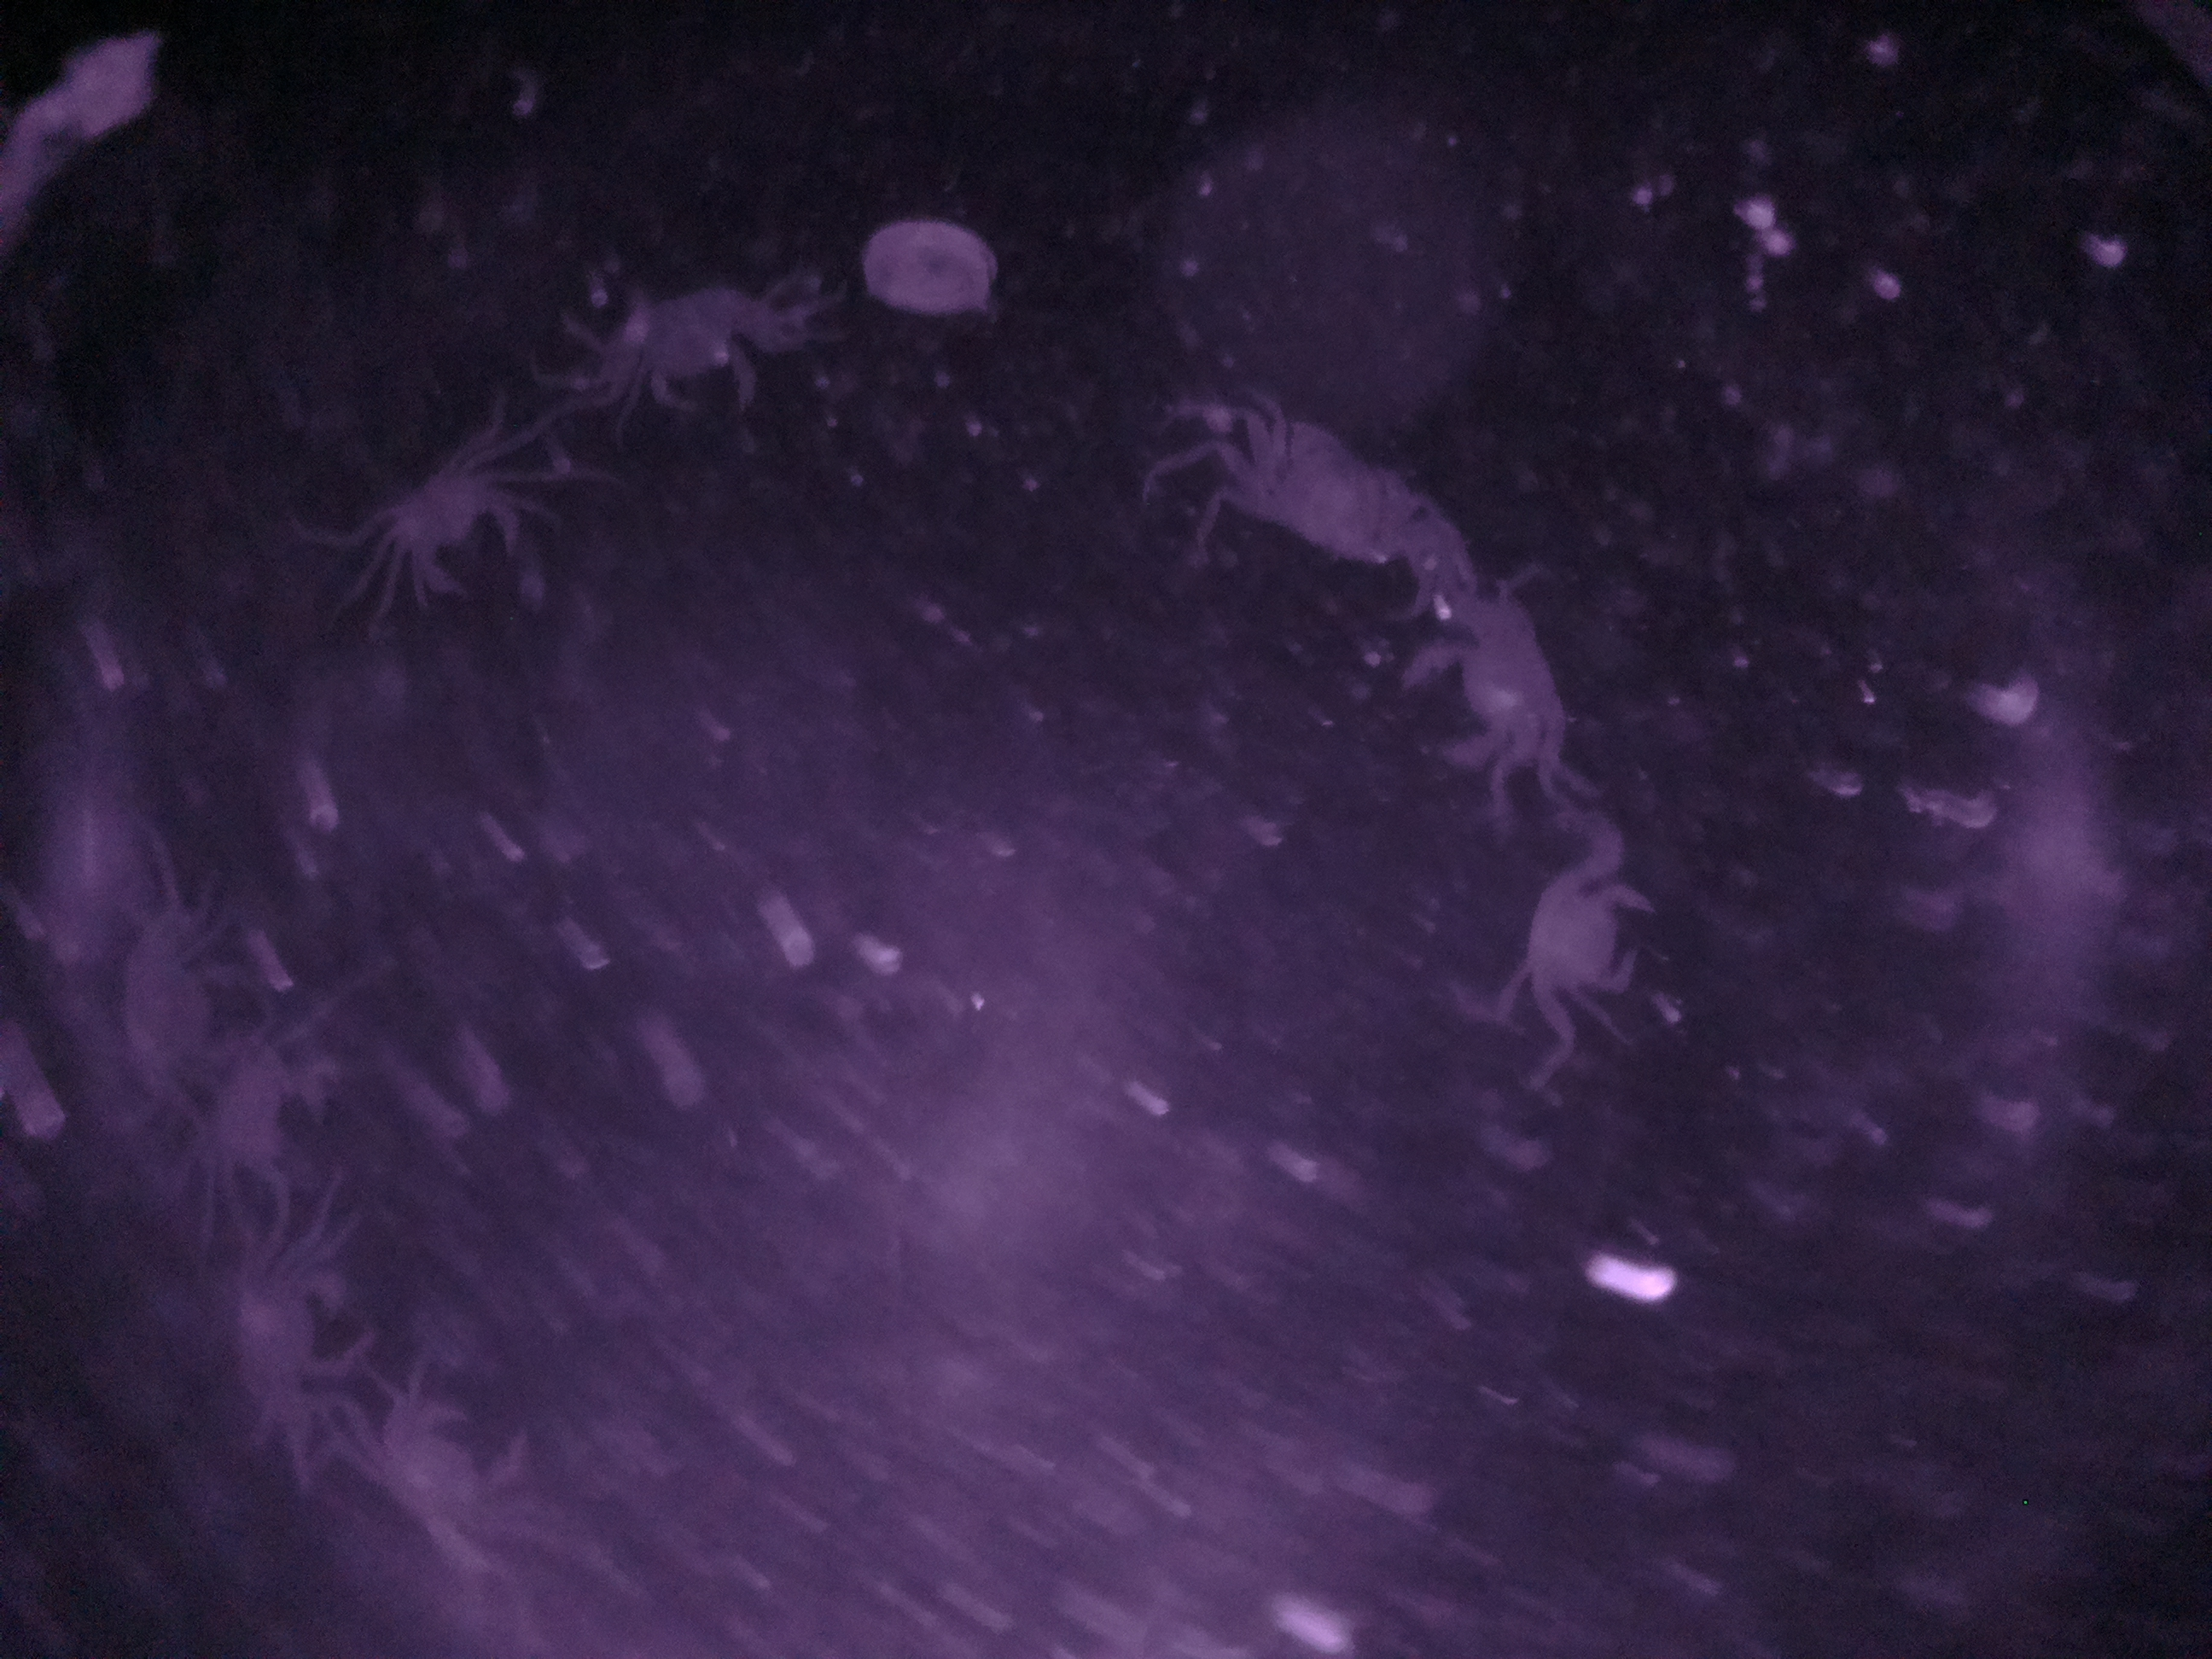Crab: (587, 260, 822, 436), (371, 418, 540, 627)
